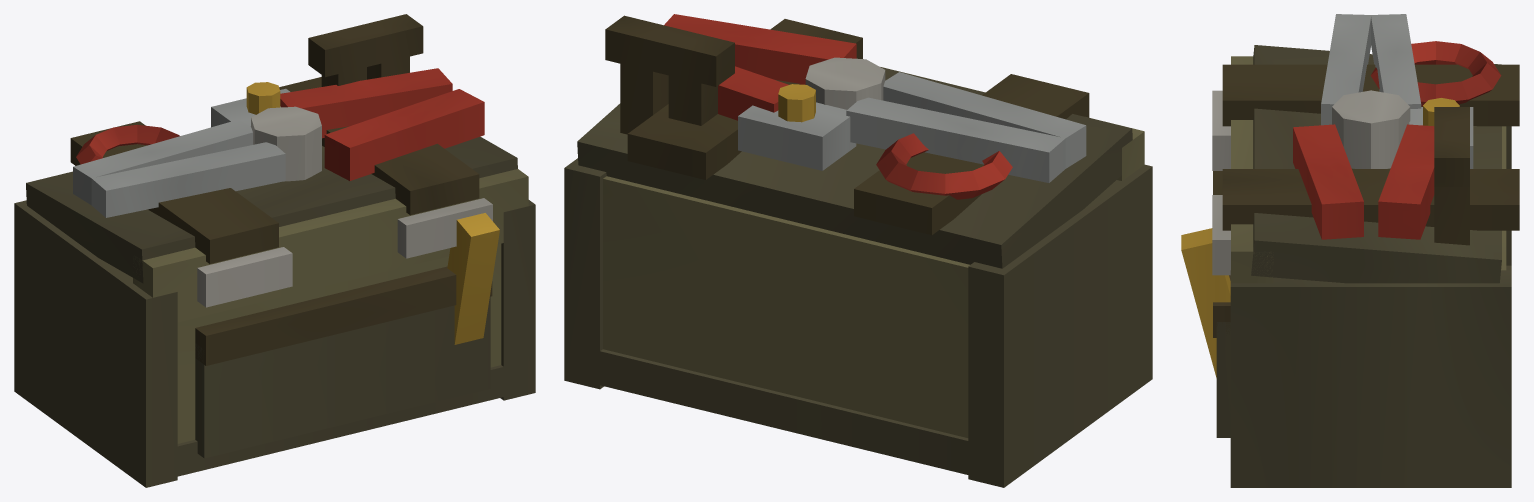
3 renders of one model, left to right at view 1: azimuth 30°, elevation 25°; view 2: azimuth 150°, elevation 25°; view 3: azimuth 270°, elevation 25°, orthographic. The views are drawn at different scales.
Visible parts, largest first — view 1: defusekit; view 2: defusekit; view 3: defusekit.
Part boxes in pixels (<box>): defusekit: <box>14,14,535,487</box>; defusekit: <box>564,14,1152,487</box>; defusekit: <box>1181,14,1519,487</box>.
Size of the model in its own units: 0.24 by 0.1772 by 0.1693.
1 material, 1 textured.
